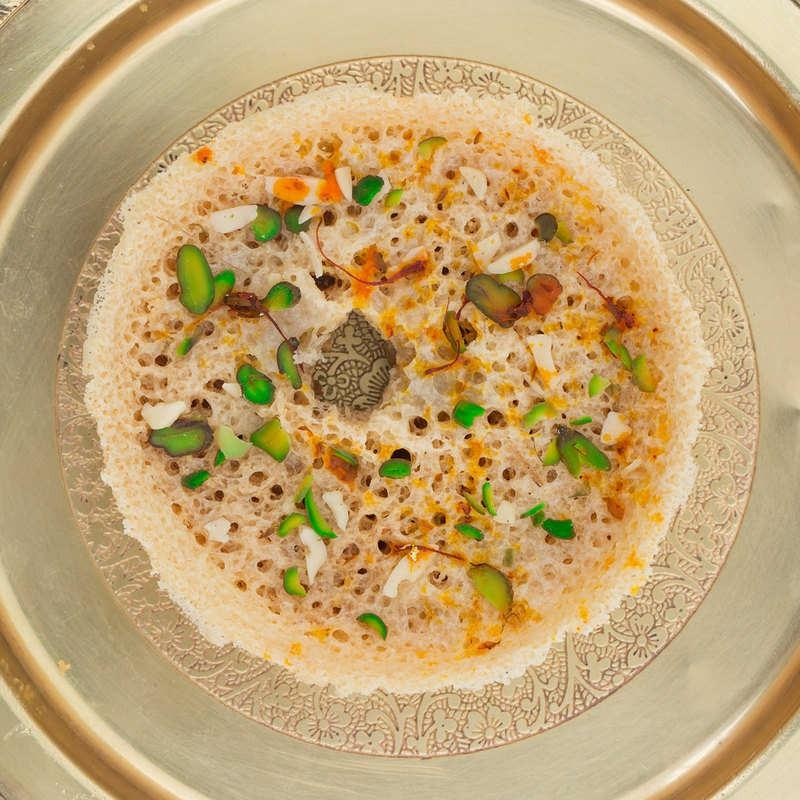Ghevar: (84, 86, 712, 694)
